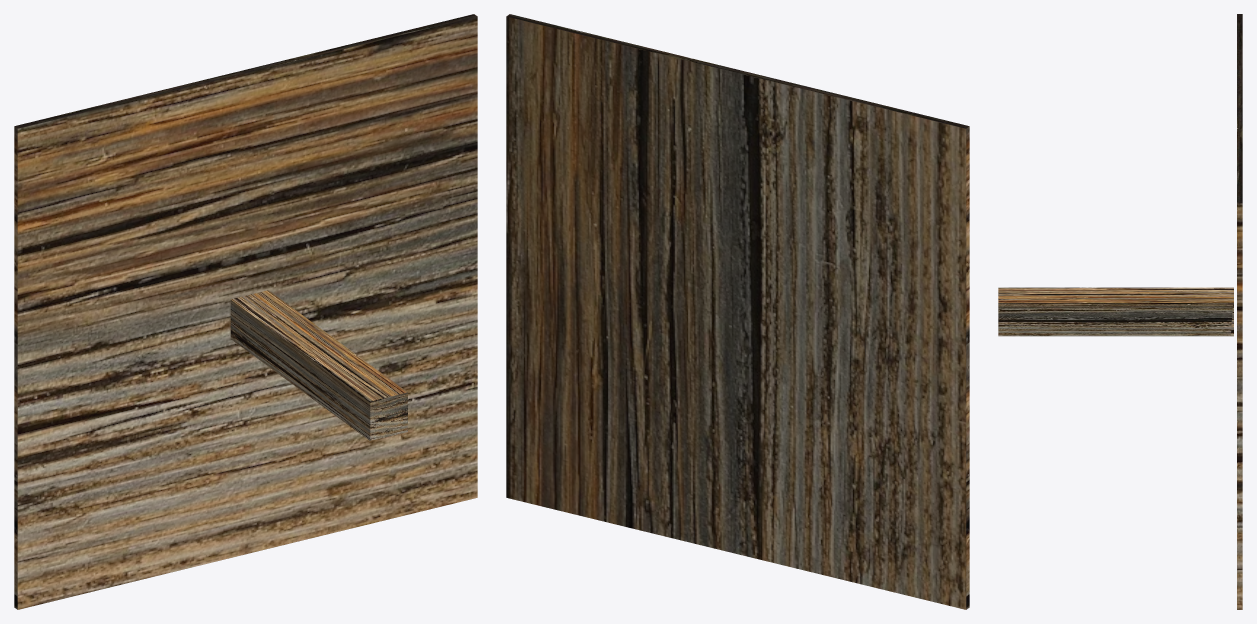
File: table.fbx
3 renders of one model, left to right at view 1: azimuth 30°, elevation 25°; view 2: azimuth 150°, elevation 25°; view 3: azimuth 270°, elevation 25°, orthographic. The views are drawn at different scales.
Parts seen in each view (by area): view 1: Plane, Cube; view 2: Plane; view 3: Cube, Plane.
Part boxes in pixels (left/top/right/bottom): Plane: left=14, top=14, right=477, bottom=609; Cube: left=230, top=290, right=407, bottom=440; Plane: left=506, top=14, right=969, bottom=609; Cube: left=998, top=287, right=1233, bottom=336; Plane: left=1237, top=14, right=1242, bottom=609.
Size of the model in its own units: 242 by 242 by 132.
1 material, 1 textured.
